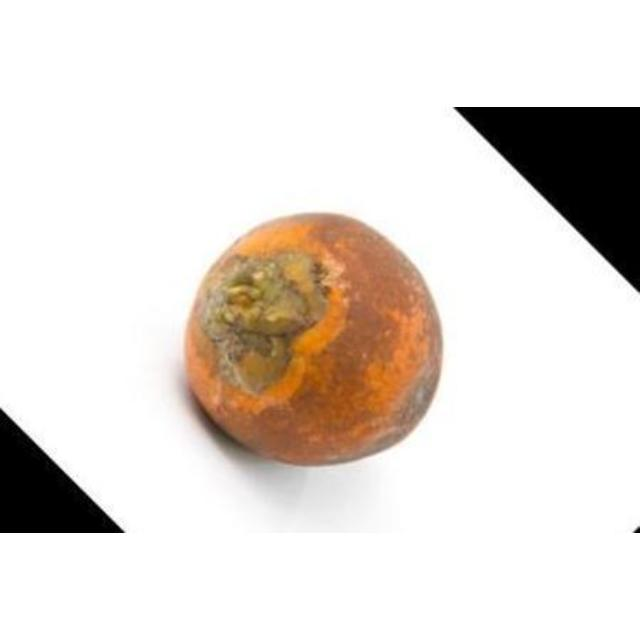good: (183, 214, 444, 468)
